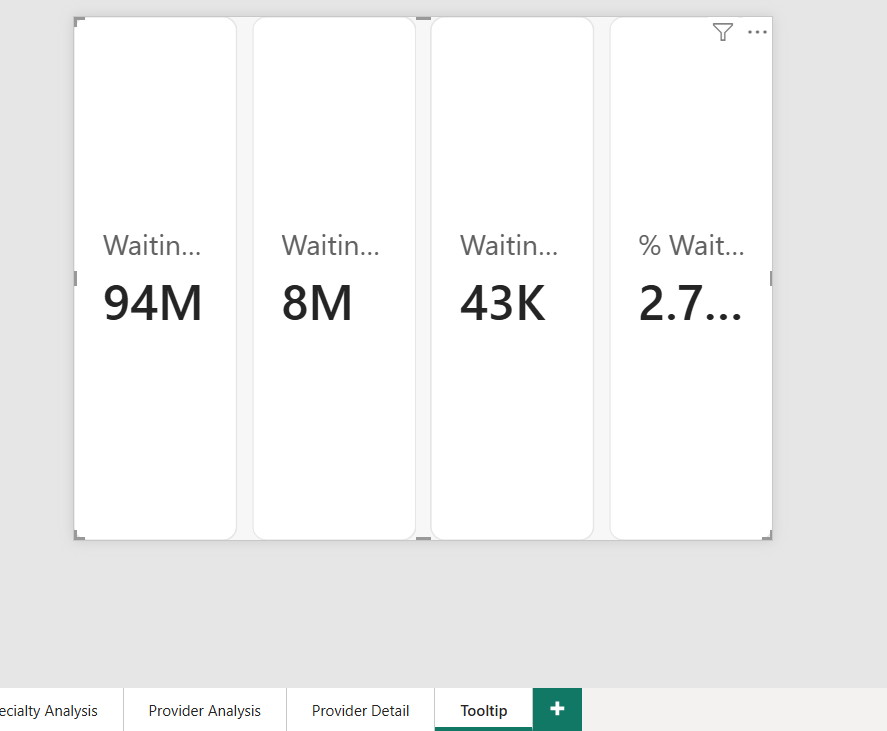

The page's visual inventory and layout, read from the dashboard file:
{"tool":"powerbi","page":{"name":"Tooltip","canvas":[400,300],"ordinal":4},"visuals":[{"type":"cardVisual","fields":{"Data":["NHS_Waiting_Times_Cleaned.Waiting 18+","NHS_Waiting_Times_Cleaned.Waiting 52+","NHS_Waiting_Times_Cleaned.Waiting 104+","NHS_Waiting_Times_Cleaned.% Waiting 52+"]},"box":[0,0,400,300],"z":0}]}

Visuals, with their boxes on the page's 400x300 design canvas (x1, y1, x2, y2). These are canvas units, not pixel positions in the 887x731 screenshot, which may show the page scaled, cropped or inside an application window:
cardVisual - NHS_Waiting_Times_Cleaned.Waiting 18+ x NHS_Waiting_Times_Cleaned.Waiting 52+: (x1=0, y1=0, x2=400, y2=300)
